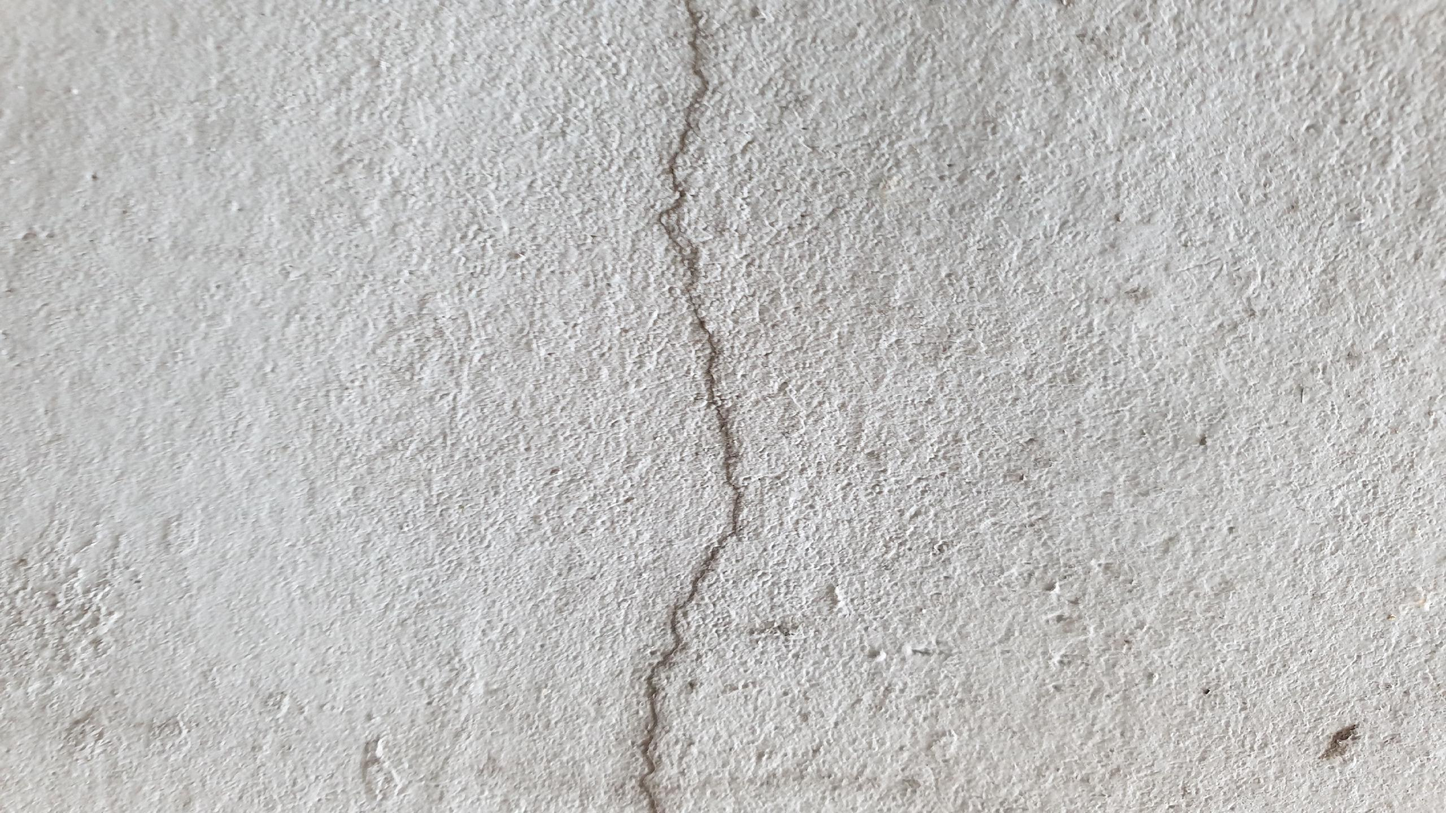crack: (639, 1, 739, 812)
